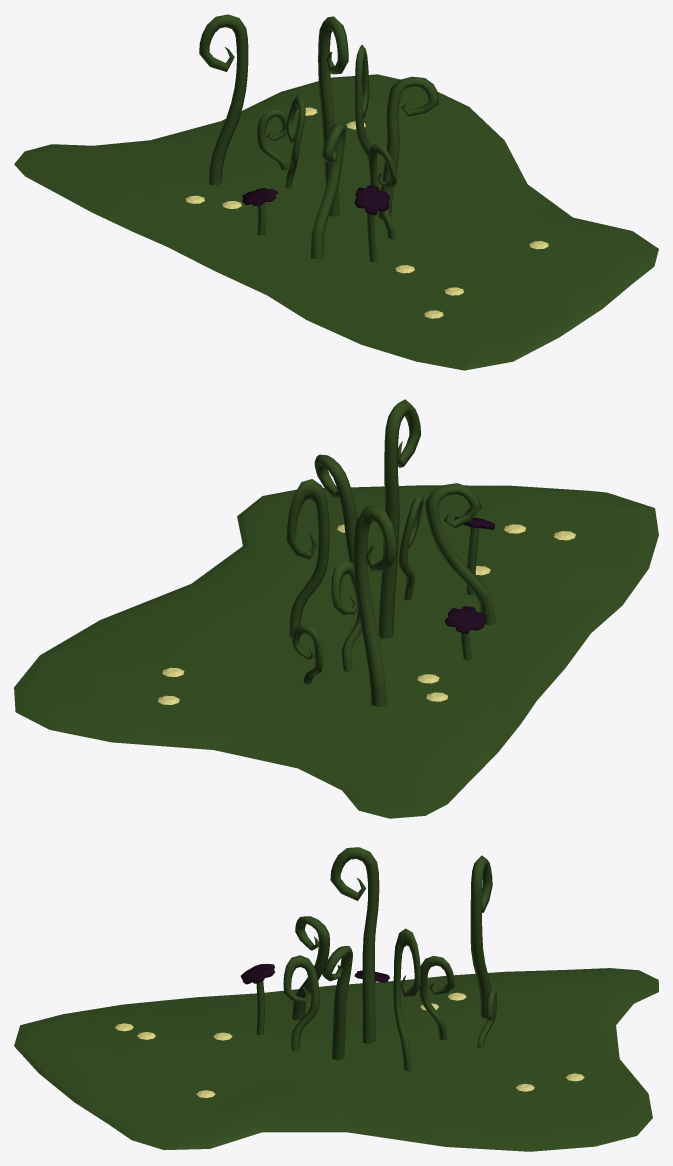
File: vegetationSpawn.fbx
3 renders of one model, top to bottom at view 1: azimuth 30°, elevation 25°; view 2: azimuth 150°, elevation 25°; view 3: azimuth 270°, elevation 25°, orthographic. The views are drawn at different scales.
Visible parts, largest first — view 1: patch, stalk2; view 2: patch, stalk2; view 3: patch, stalk2.
Boxes of the visible parts, x1,y1,x2,y2 form: patch: (14,74,658,370); stalk2: (199,14,438,262); patch: (14,485,658,818); stalk2: (286,399,496,707); patch: (14,968,658,1151); stalk2: (240,847,496,1071).
Bounding box in the file's own units: 331 × 168 × 485.
